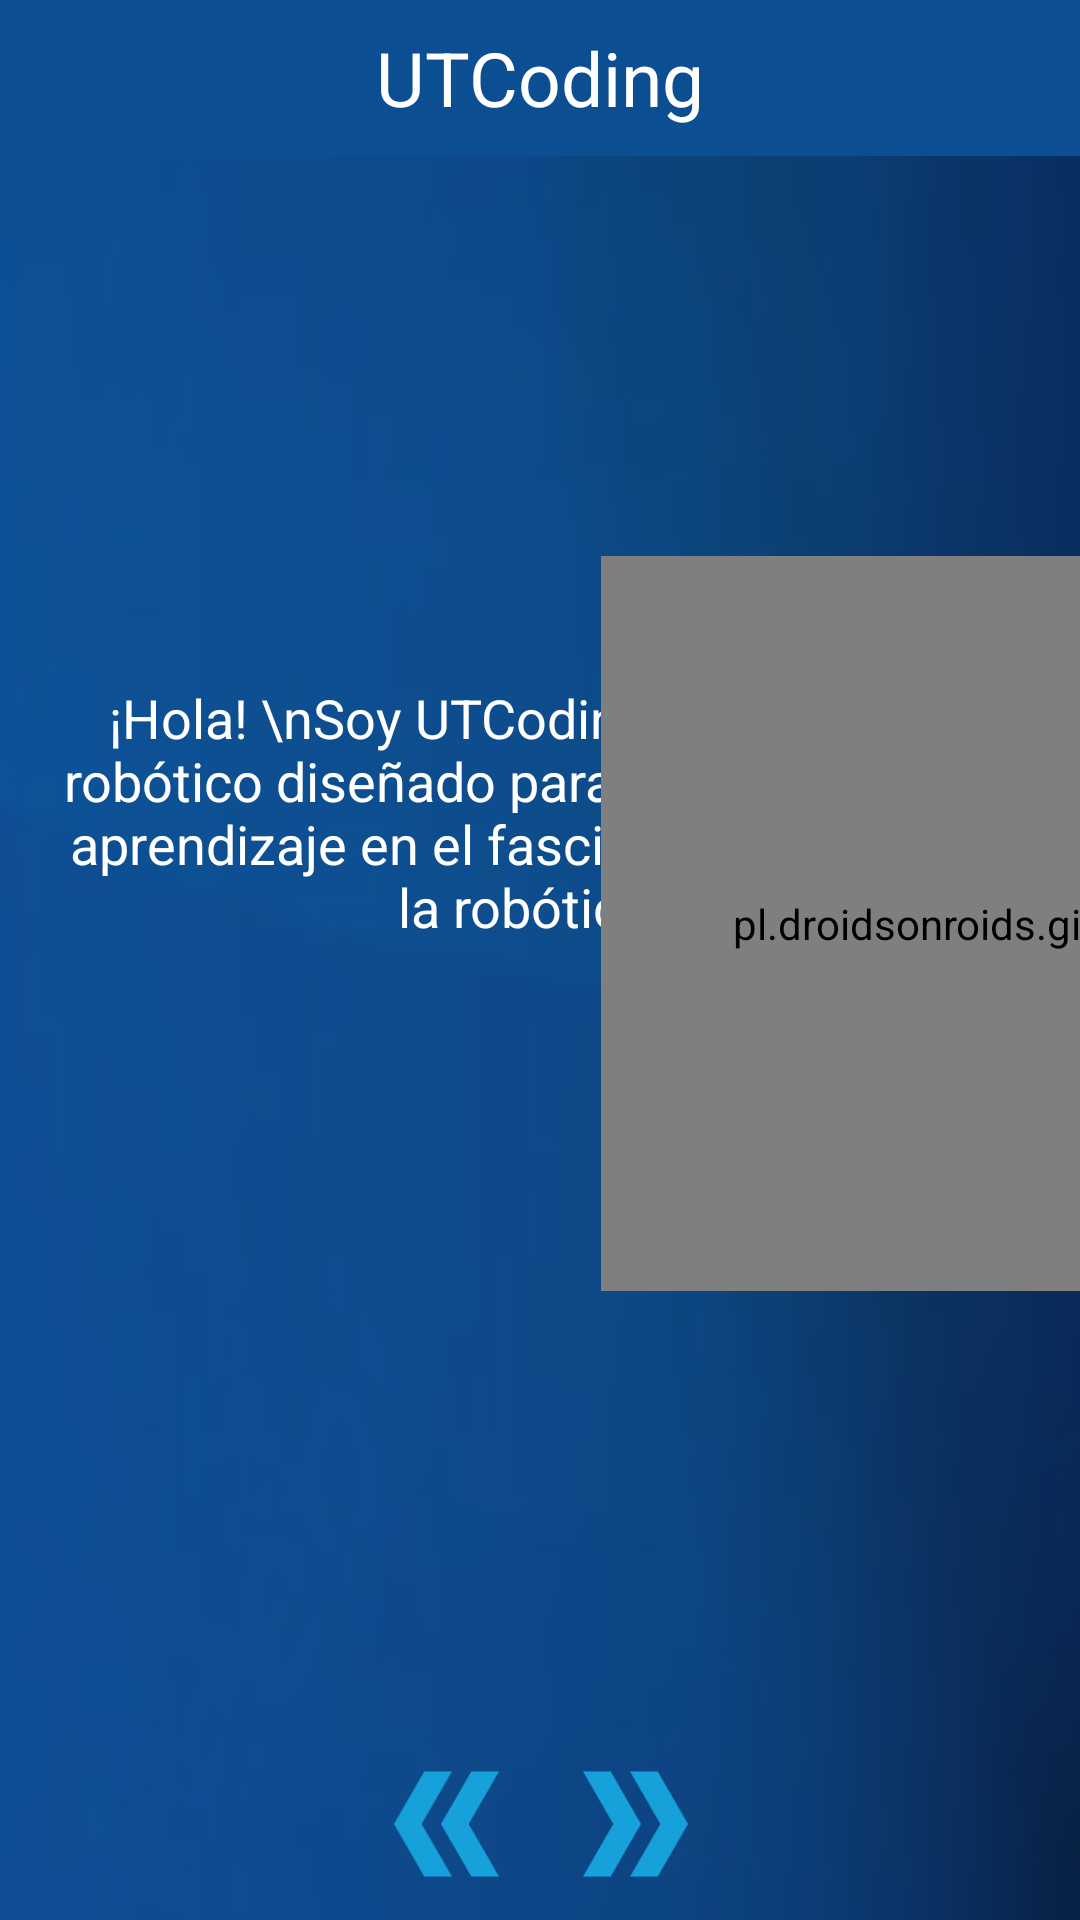

Named icons in this screenshot (1080×1920) and their bounding boxes, (x1, y1, x2, y2):
regresar: (394, 1771, 499, 1877)
siguiente: (583, 1771, 688, 1877)
